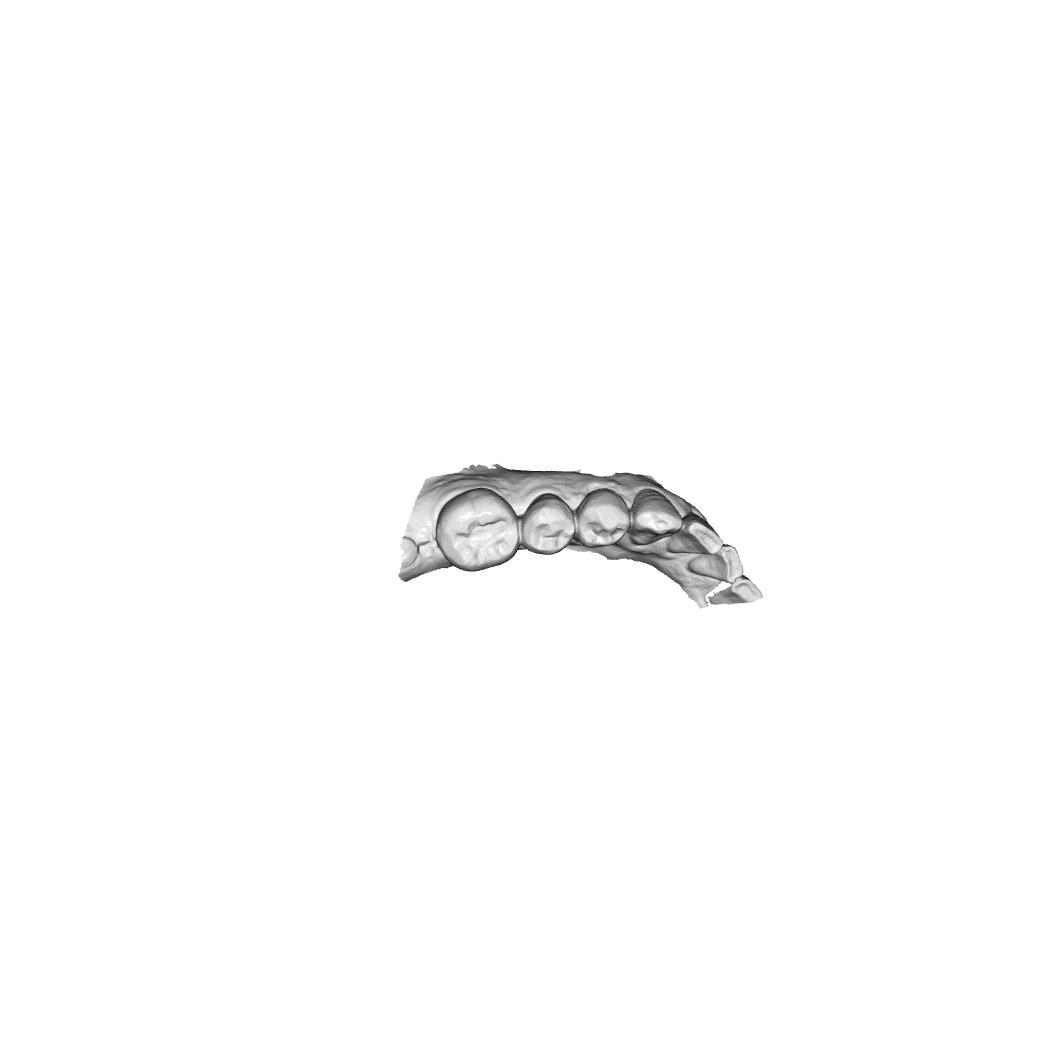canine: (632, 485, 686, 557)
incisor: (670, 516, 720, 559), (686, 545, 740, 581)
molar: (439, 490, 522, 574)
premolar: (517, 490, 576, 557), (578, 491, 632, 549)
